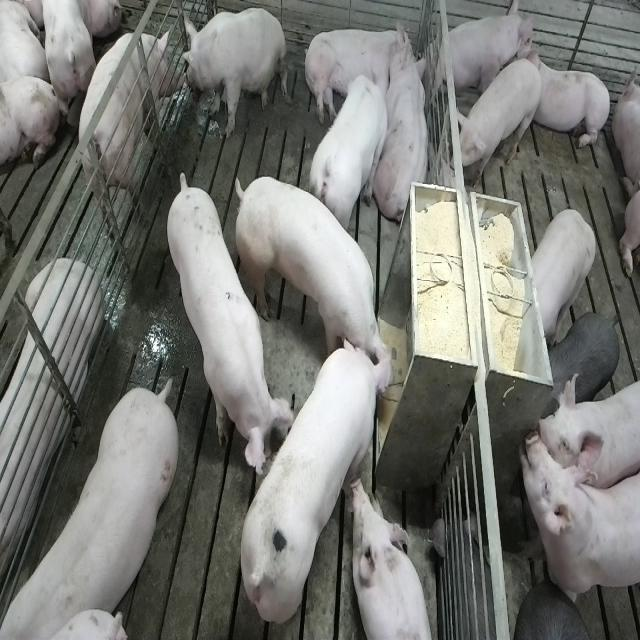Lateral_lying: (303, 18, 418, 132)
Sitting: (180, 9, 291, 138), (438, 0, 533, 121)
Standing: (0, 374, 181, 640), (236, 334, 394, 629), (164, 170, 296, 472), (230, 165, 388, 365), (516, 427, 640, 610), (78, 21, 181, 232), (306, 72, 388, 246), (457, 57, 542, 205), (535, 372, 640, 482), (528, 312, 623, 413), (526, 205, 598, 336)
Sternal_lying: (0, 250, 106, 588), (349, 473, 430, 640), (370, 30, 430, 234), (516, 47, 610, 155), (613, 66, 640, 195)
